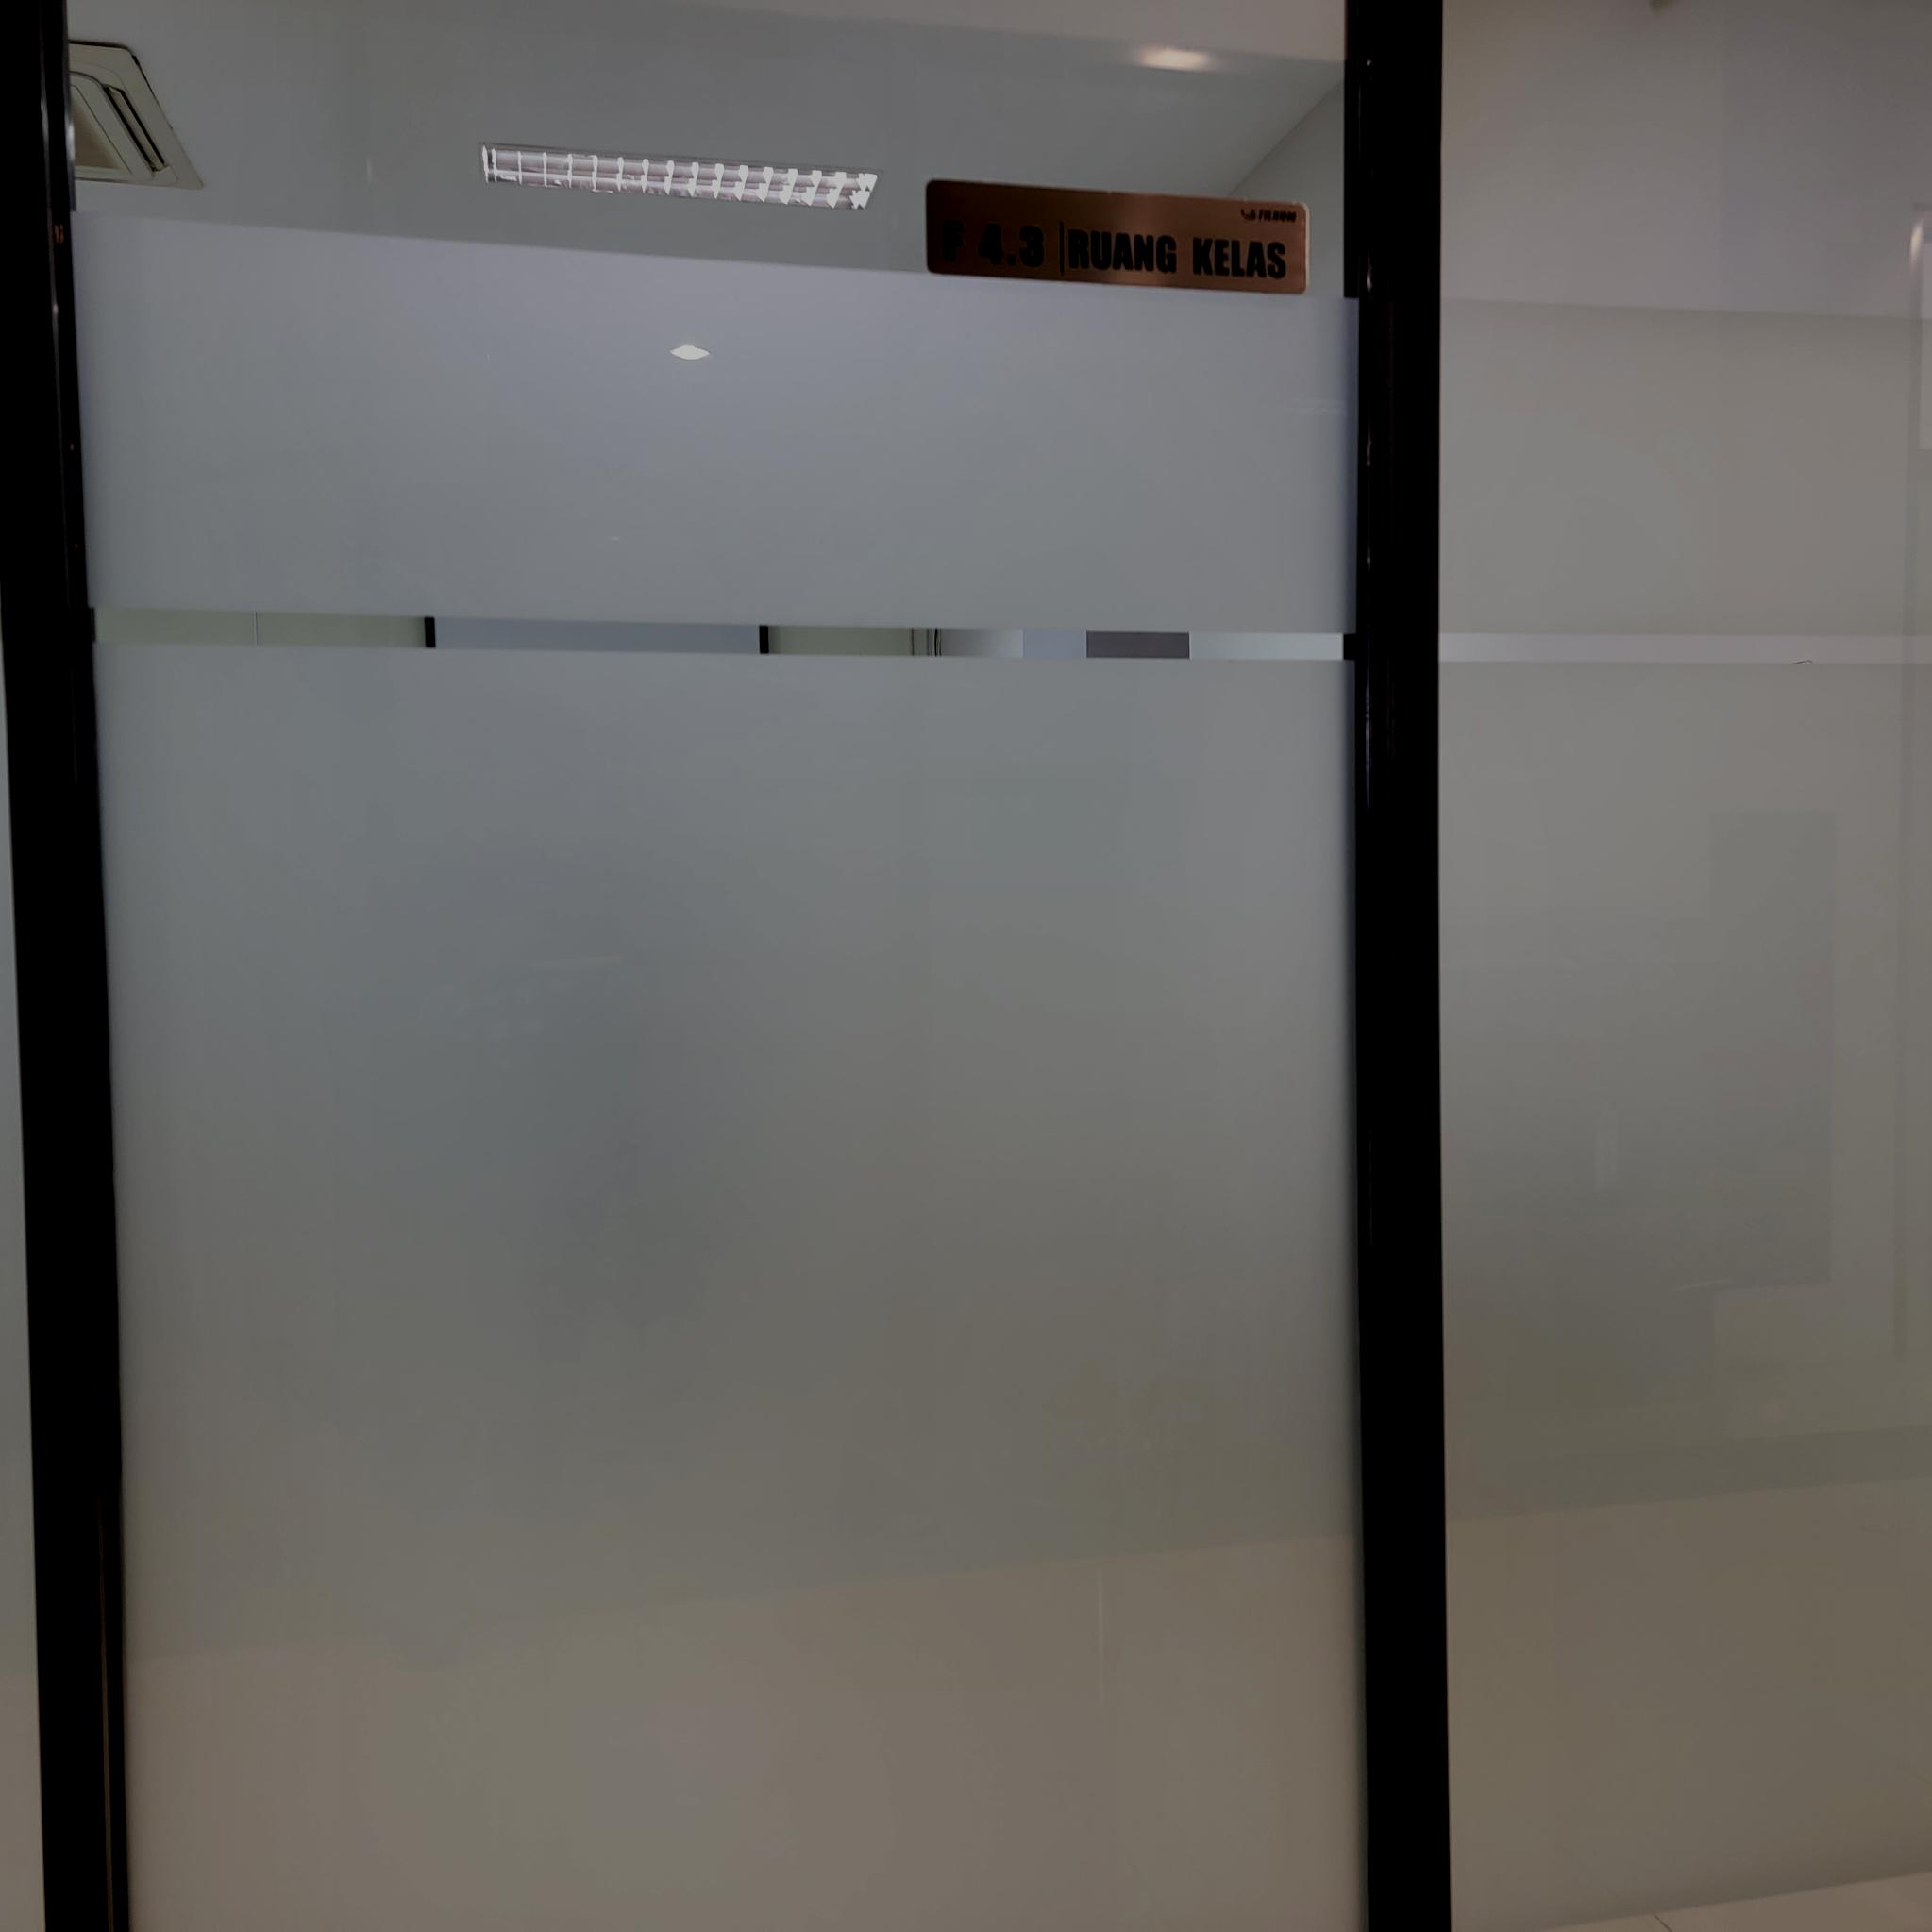plate: (925, 179, 1309, 295)
